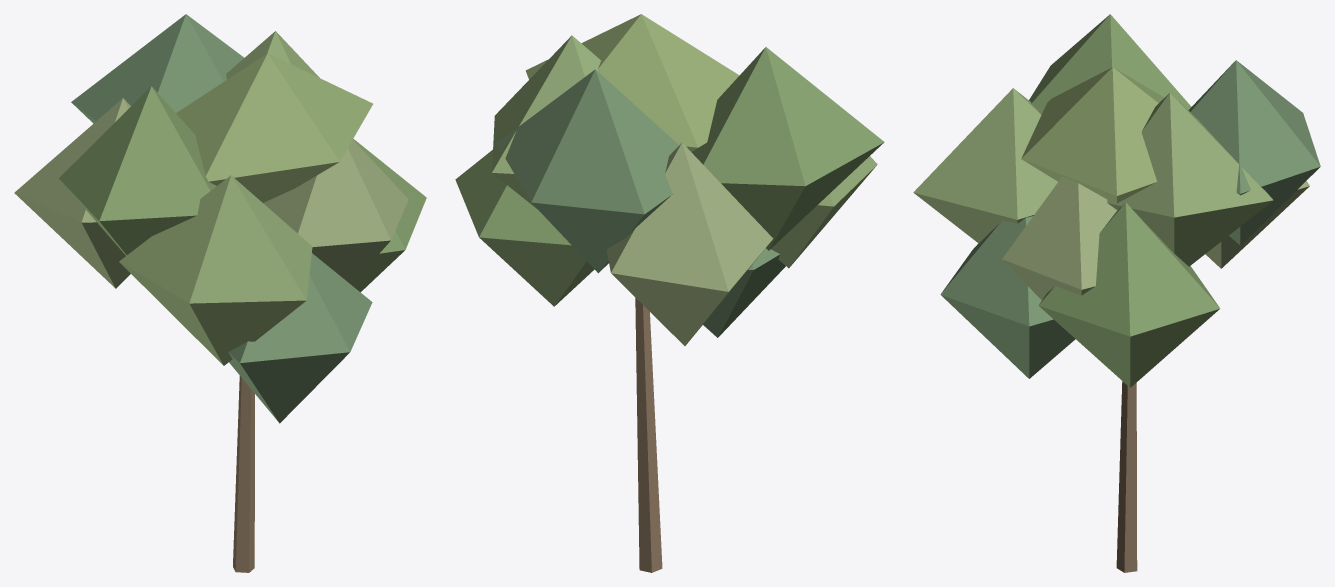
The picture shows the model from 3 angles, left to right: view 1: azimuth 30°, elevation 25°; view 2: azimuth 150°, elevation 25°; view 3: azimuth 270°, elevation 25°; orthographic projection. The views are drawn at different scales.
Bounding box in the file's own units: 9.56 × 12.85 × 9.32.
